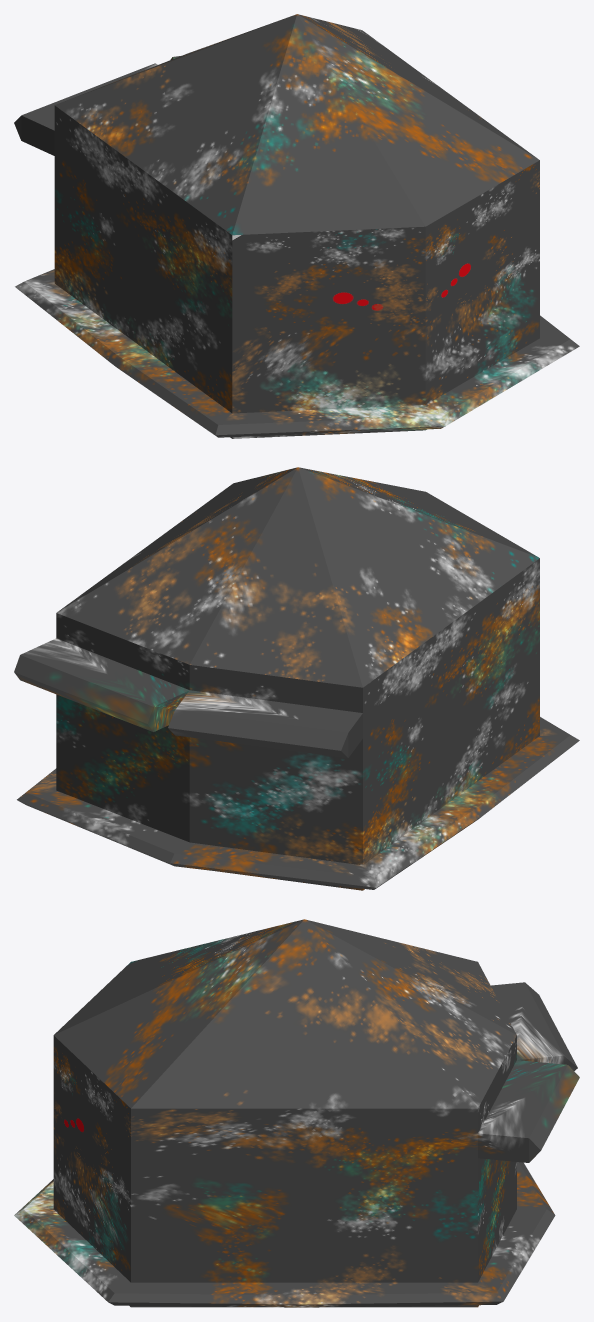
The model's file is needle_Body.obj.
The picture shows the model from 3 angles, top to bottom: view 1: azimuth 30°, elevation 25°; view 2: azimuth 150°, elevation 25°; view 3: azimuth 270°, elevation 25°; orthographic projection. The views are drawn at different scales.
Parts seen in each view (by area): view 1: 立方体; view 2: 立方体; view 3: 立方体.
Part boxes in pixels (x1,y1,x2,y2): 立方体: (14, 14, 579, 438); 立方体: (14, 467, 579, 890); 立方体: (14, 919, 579, 1307).
Size of the model in its own units: 1.27 by 1.05 by 1.71.
